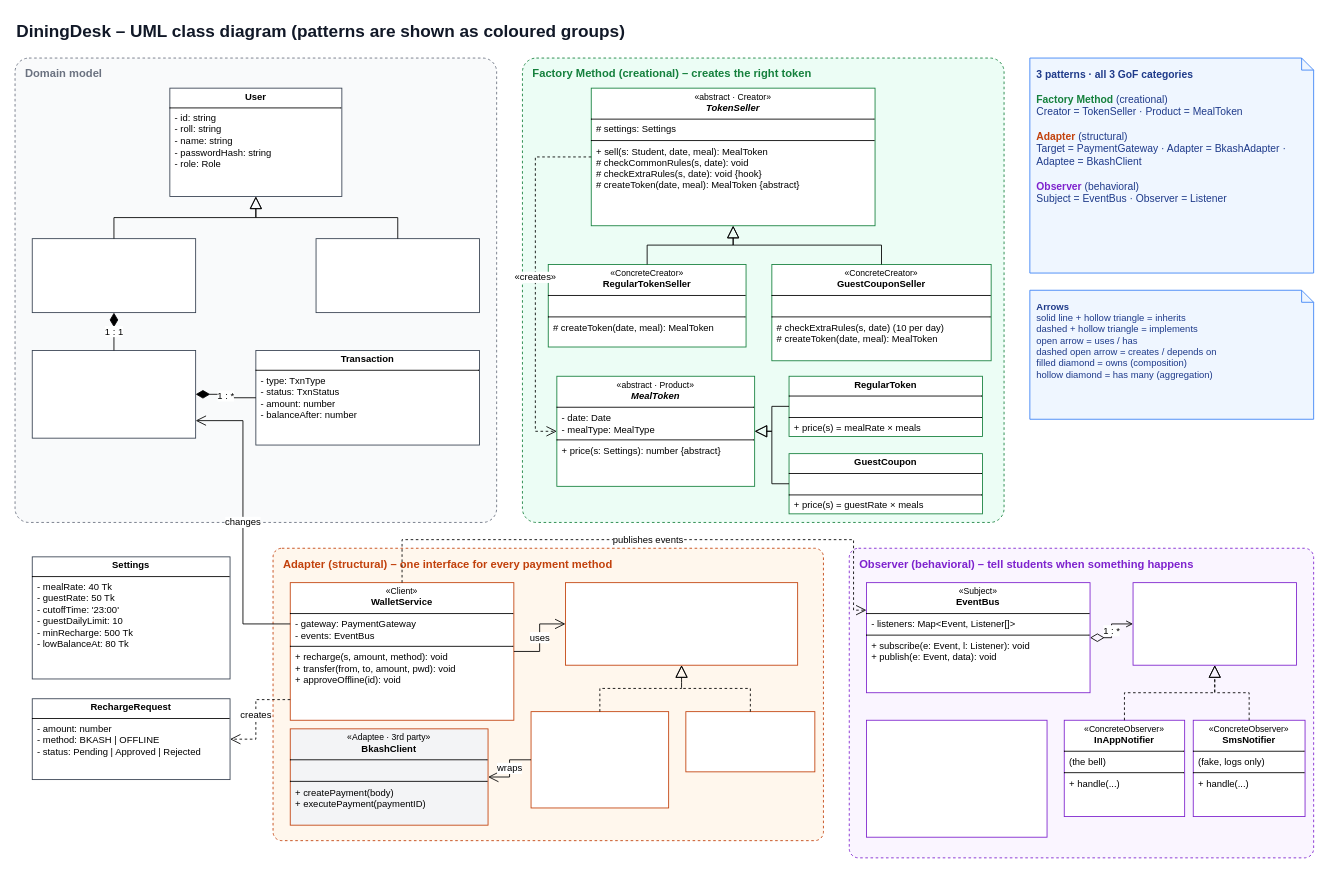
The diagram is 1329 pixels wide and 873 high, and some of its shapes have lost their labels. Each missing label, with the centre of its shape:
Manager + setRates(...): void + approveRecharge(id): void: point 397,275
OfflineGateway + charge(amount, ref): point 750,741
Student - hallId: string + canTransferTo(s: Student): boolean: point 113,275
Wallet - balance: number (poisha) + debit(amount): void + credit(amount): void: point 113,394
«Adapter» BkashAdapter - client: BkashClient + charge(amount, ref): point 599,759
«enumeration» Event RechargeApproved RechargeRejected MoneyReceived LowBalance: point 956,778
«interface · Observer» Listener + handle(e: Event, data): void: point 1214,623
«interface · Target» PaymentGateway + charge(amount, ref): PaymentResult: point 681,623
